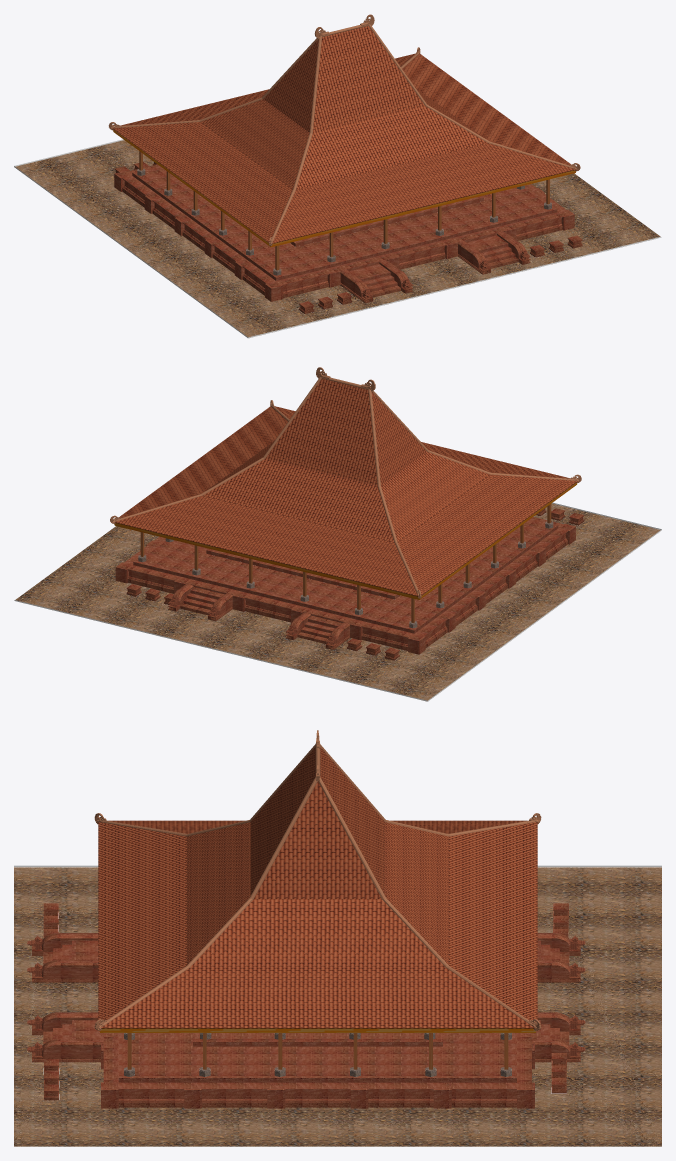
File: court.glb
The picture shows the model from 3 angles, top to bottom: view 1: azimuth 30°, elevation 25°; view 2: azimuth 150°, elevation 25°; view 3: azimuth 270°, elevation 25°; orthographic projection. The views are drawn at different scales.
Parts seen in each view (by area): view 1: court; view 2: court; view 3: court.
Part boxes in pixels (left/top/right/bottom): court: left=14, top=14, right=661, bottom=338; court: left=14, top=367, right=661, bottom=701; court: left=14, top=730, right=661, bottom=1146.
Size of the model in its own units: 2590 by 1117 by 2539.
13 materials, 6 textured.
